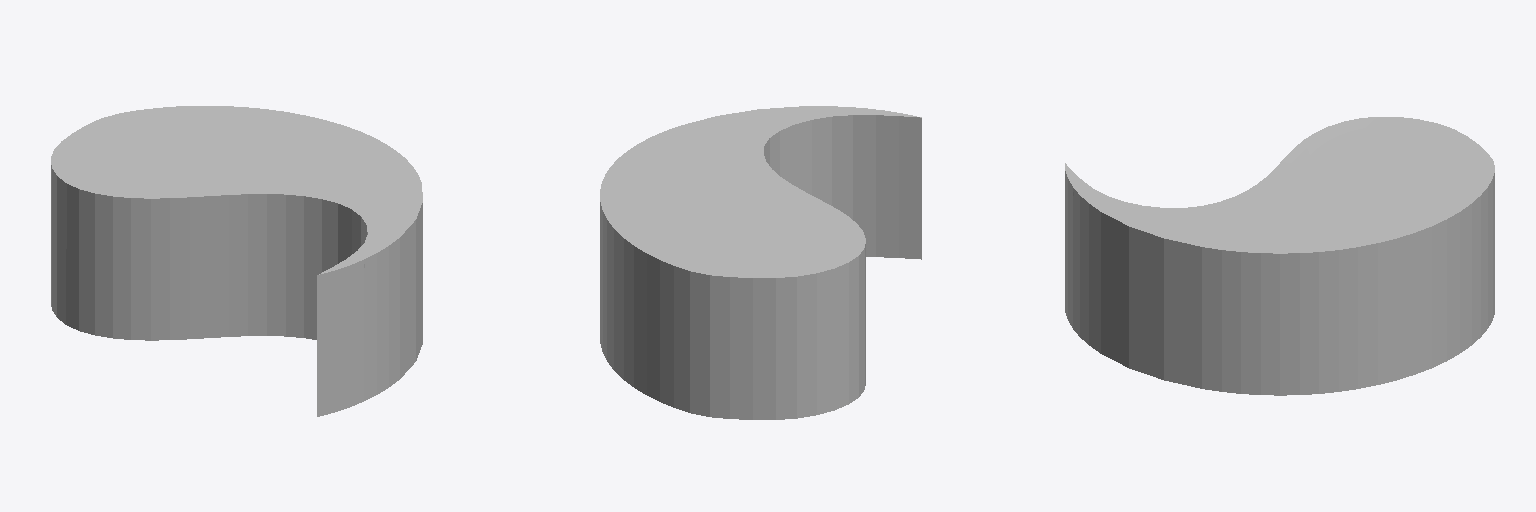
The model's file is yinout.obj.
The picture shows the model from 3 angles: view 1: azimuth 30°, elevation 25°; view 2: azimuth 150°, elevation 25°; view 3: azimuth 270°, elevation 25°; orthographic projection.
Visible parts, largest first — view 1: yinout; view 2: yinout; view 3: yinout.
Part boxes in pixels (x1,y1,x2,y2): yinout: (51, 106, 422, 416); yinout: (600, 106, 921, 419); yinout: (1065, 117, 1494, 395).
Size of the model in its own units: 73.49 by 35.55 by 97.64.